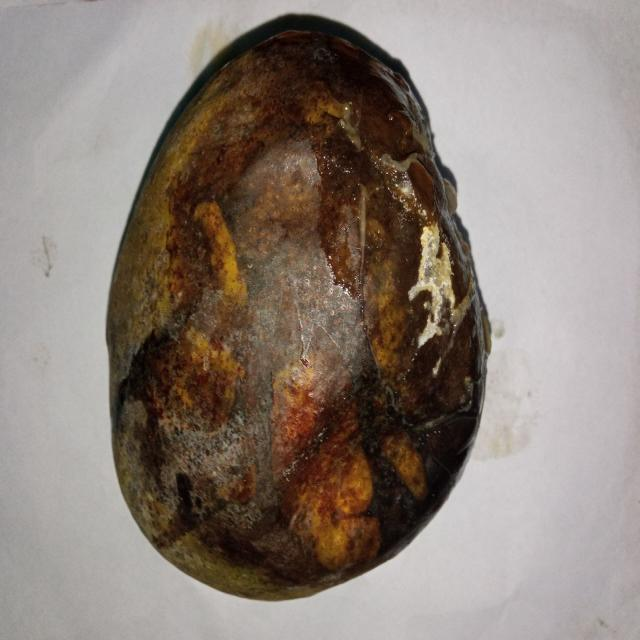rotten_mango: (105, 30, 490, 602)
